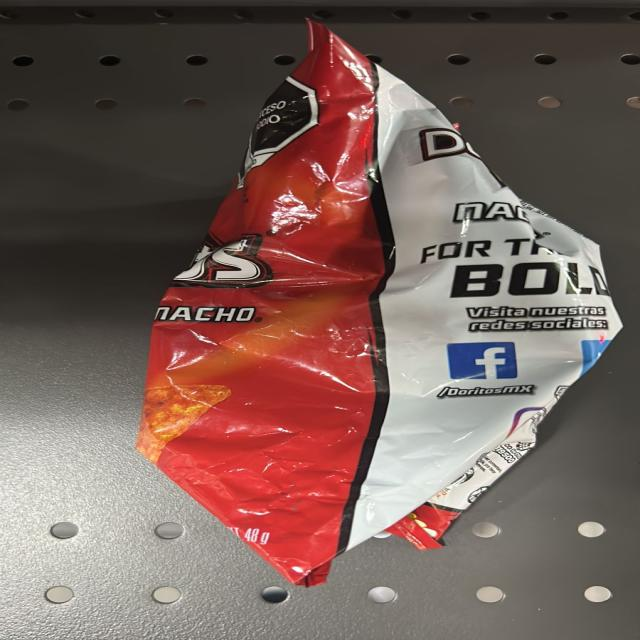doritosNacho: (136, 103, 349, 555)
productoAtras: (392, 112, 591, 494)
